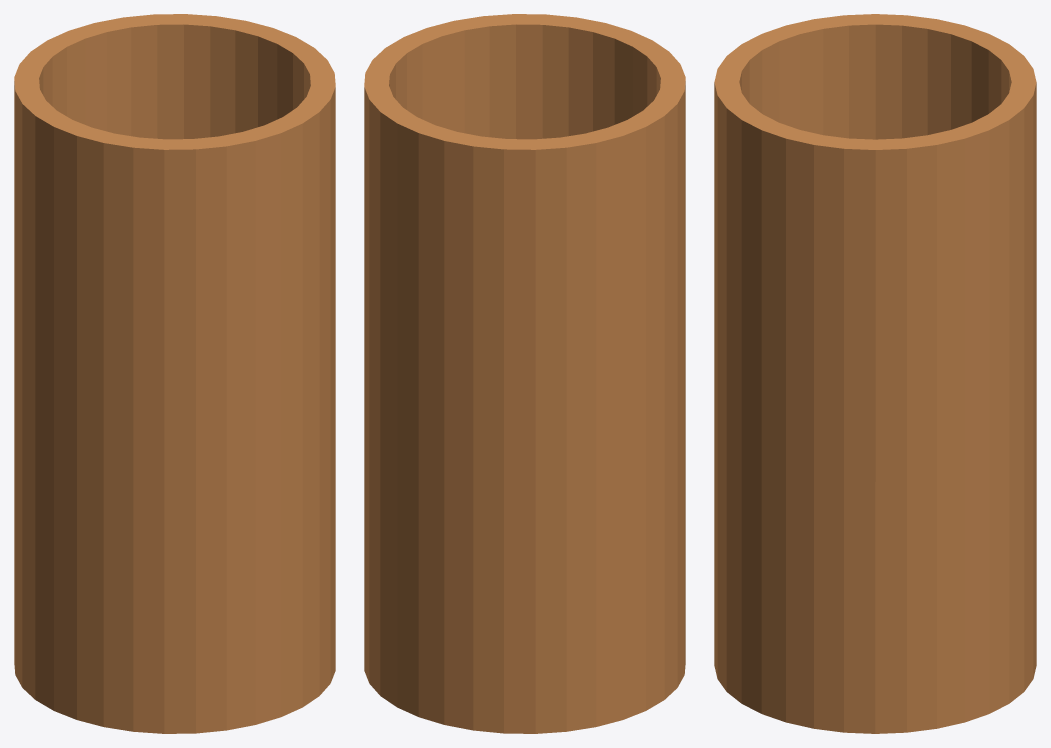
The model's file is RolloPapel.fbx.
3 renders of one model, left to right at view 1: azimuth 30°, elevation 25°; view 2: azimuth 150°, elevation 25°; view 3: azimuth 270°, elevation 25°, orthographic.
Parts seen in each view (by area): view 1: Cilindro; view 2: Cilindro; view 3: Cilindro.
Part boxes in pixels (x1,y1,x2,y2): Cilindro: (14,14,335,733); Cilindro: (364,14,685,733); Cilindro: (714,14,1036,733).
Bounding box in the file's own units: 200 × 400 × 200.
